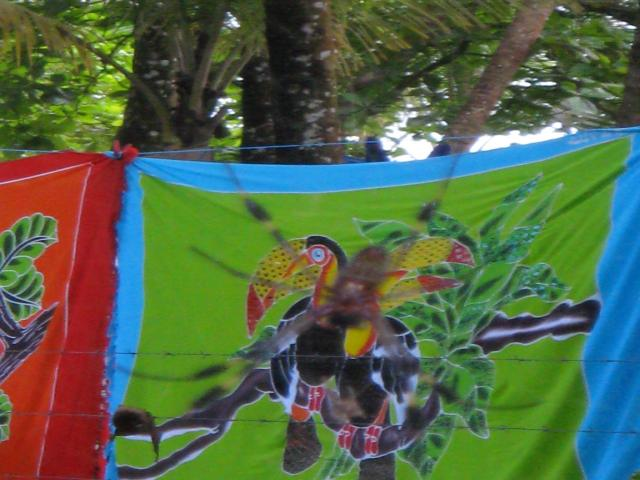Bird: (245, 236, 425, 480)
